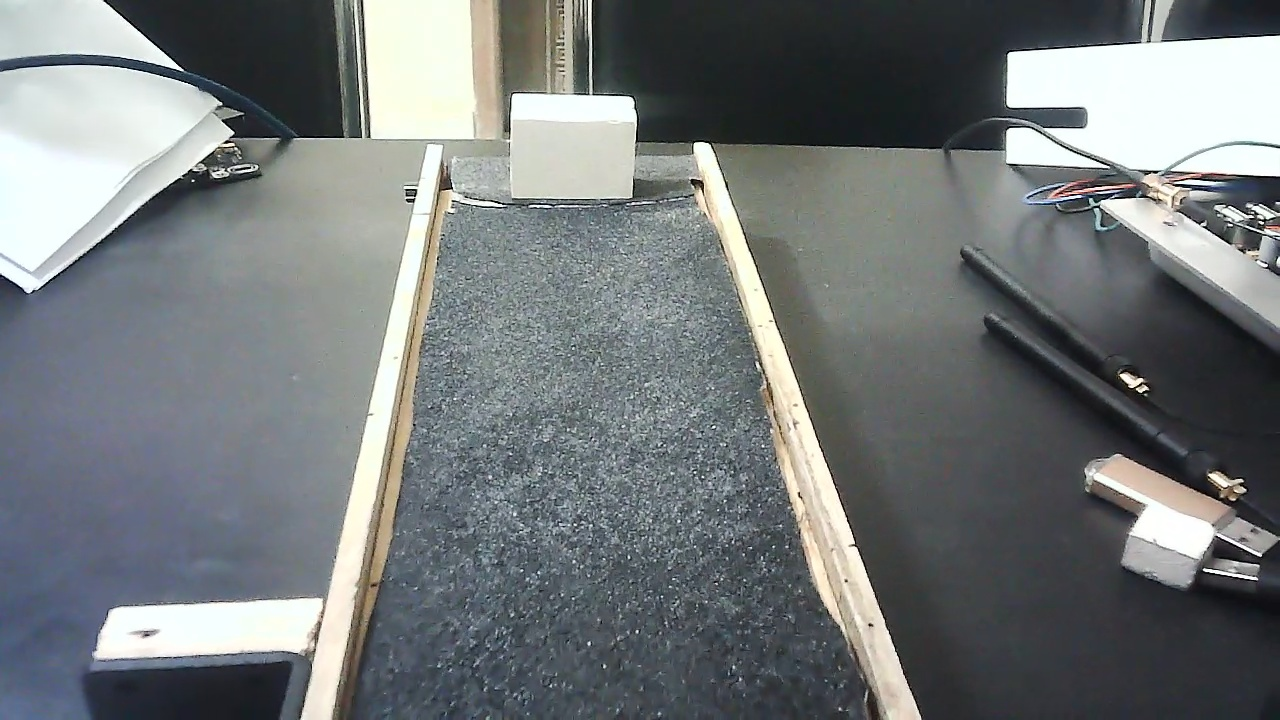BIG: (509, 83, 637, 211)
